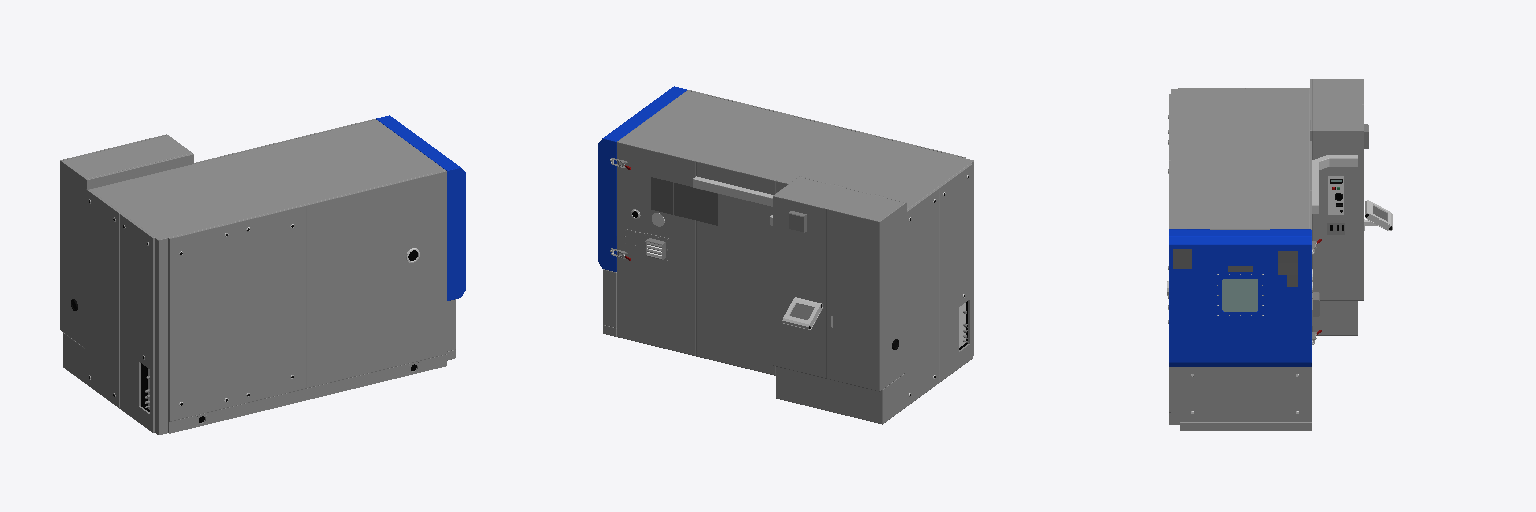
The model's file is 02DQYX.obj.
3 renders of one model, left to right at view 1: azimuth 30°, elevation 25°; view 2: azimuth 150°, elevation 25°; view 3: azimuth 270°, elevation 25°, orthographic.
Parts seen in each view (by area): view 1: Metal_02, Metal_Blue; view 2: Metal_02, Metal_Blue, Tex, metal_04; view 3: Metal_02, Metal_Blue, metal_04, Tex, Glass, Metal_01.
Boxes of the visible parts, x1,y1,x2,y2 form: Metal_02: [60, 119, 455, 434]; Metal_Blue: [376, 115, 465, 300]; Metal_02: [603, 90, 973, 424]; Metal_Blue: [598, 86, 686, 271]; Tex: [651, 177, 813, 319]; metal_04: [693, 176, 822, 329]; Metal_02: [1169, 79, 1363, 430]; Metal_Blue: [1169, 229, 1311, 366]; metal_04: [1312, 155, 1392, 230]; Tex: [1173, 206, 1386, 286]; Glass: [1222, 180, 1341, 311]; Metal_01: [1167, 115, 1377, 413].
Size of the model in its own units: 334 by 210 by 210.